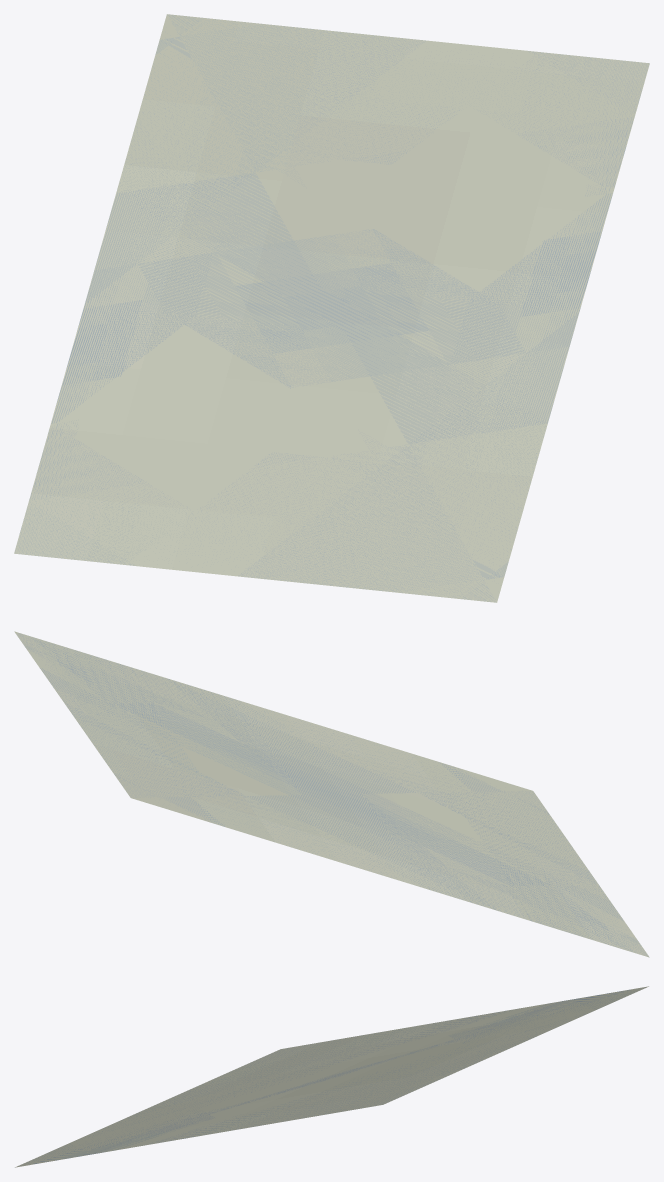
Rendered from 人民英雄纪念碑192.dae.
3 views of the same model, one above another, from view 1: azimuth 30°, elevation 25°; view 2: azimuth 150°, elevation 25°; view 3: azimuth 270°, elevation 25° (orthographic). The views are drawn at different scales.
Visible parts, largest first — view 1: SketchUp; view 2: SketchUp; view 3: SketchUp.
Part boxes in pixels (x1,y1,x2,y2): SketchUp: [14, 14, 649, 602]; SketchUp: [14, 631, 649, 957]; SketchUp: [15, 986, 648, 1167].
Size of the model in its own units: 19.19 by 19.32 by 7.08.
